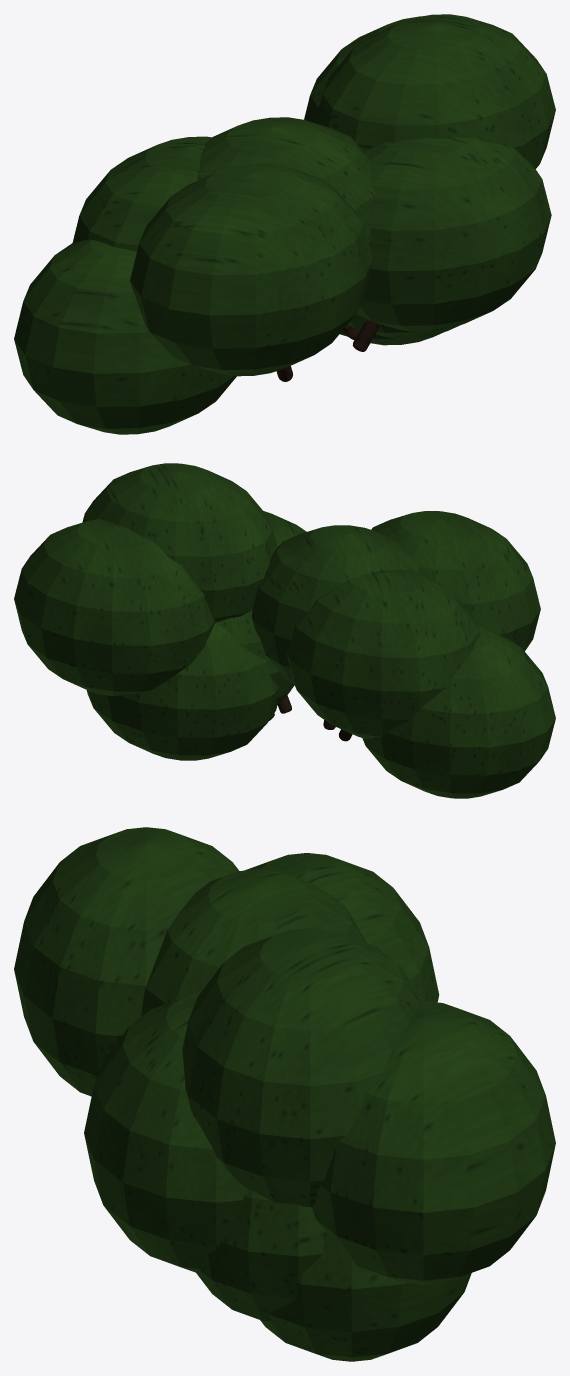
File: PROP-7FFB497B4844_lod0.glb
3 views of the same model, one above another, from view 1: azimuth 30°, elevation 25°; view 2: azimuth 150°, elevation 25°; view 3: azimuth 270°, elevation 25° (orthographic). The views are drawn at different scales.
Parts seen in each view (by area): view 1: foliage.010, plant_stem.010; view 2: foliage.010; view 3: foliage.010.
Part boxes in pixels (<box>): foliage.010: <box>14,14,555,434</box>; plant_stem.010: <box>276,321,379,381</box>; foliage.010: <box>14,463,555,798</box>; foliage.010: <box>14,827,555,1361</box>.
Bounding box in the file's own units: 1.54 × 0.8255 × 0.9838.
2 materials, 2 textured.
